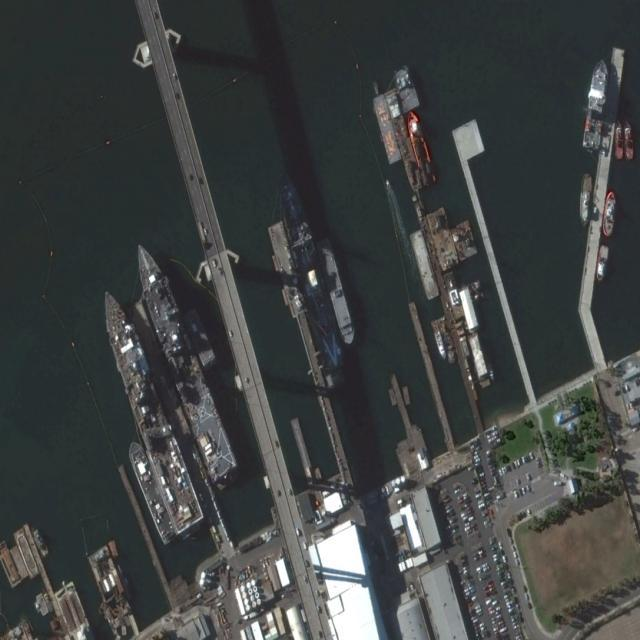Other Ship: (91, 277, 204, 536), (271, 164, 349, 381), (581, 55, 614, 152)
Other Warship: (126, 232, 239, 486), (125, 437, 178, 546), (317, 236, 357, 347), (403, 107, 439, 187)
